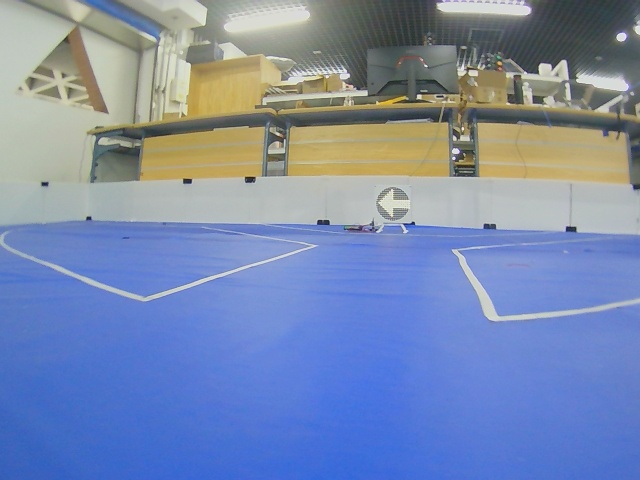left_yellow: (376, 187, 410, 221)
